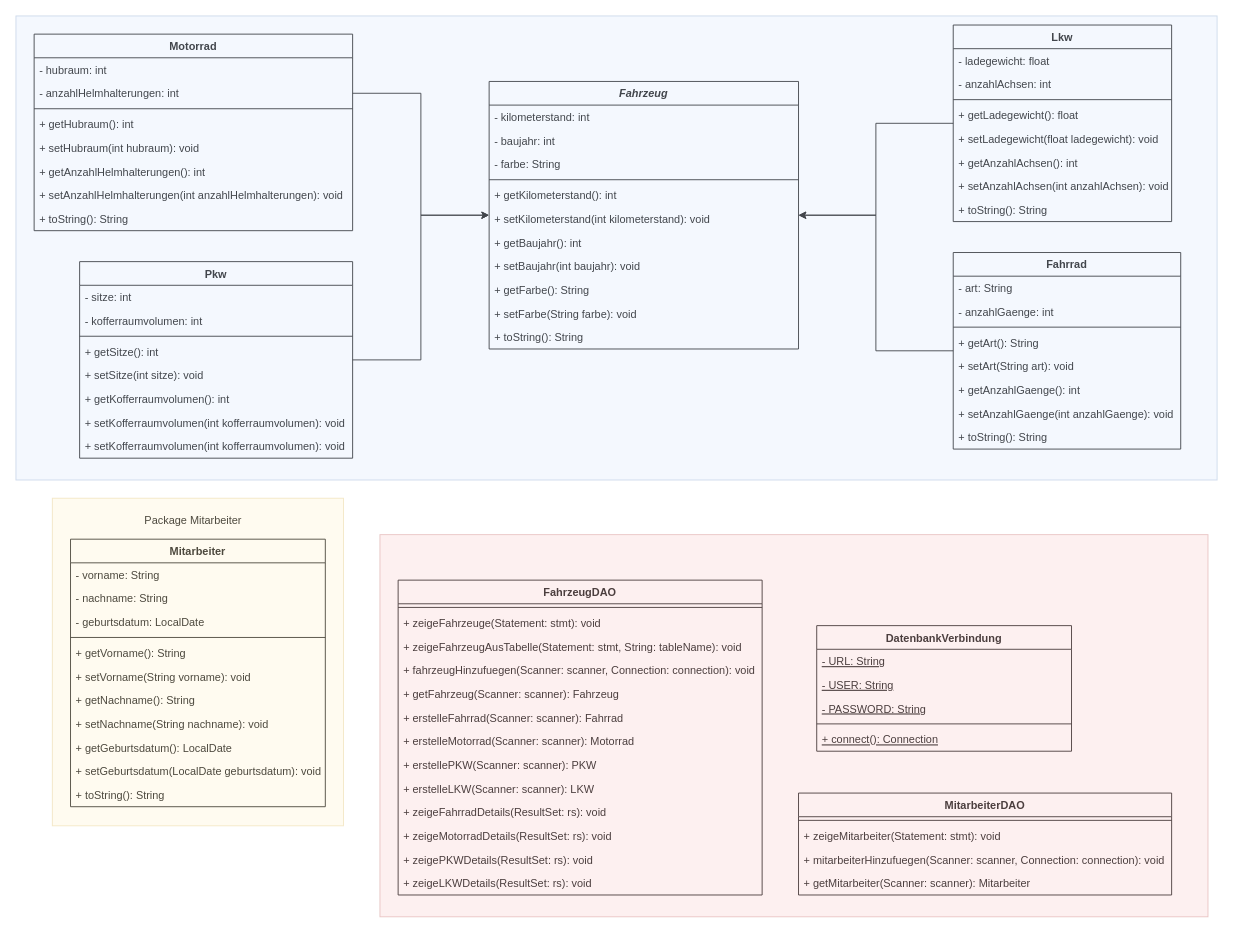
Some shapes in this 1233 by 933 pixel diagram are drawn without their labels. The shapes that lost their labels are listed below. From the top down, each one's centre as x and y in pixels, then its label:
(616,247): Package Fahrzeug
(793,725): Package Datenbank
